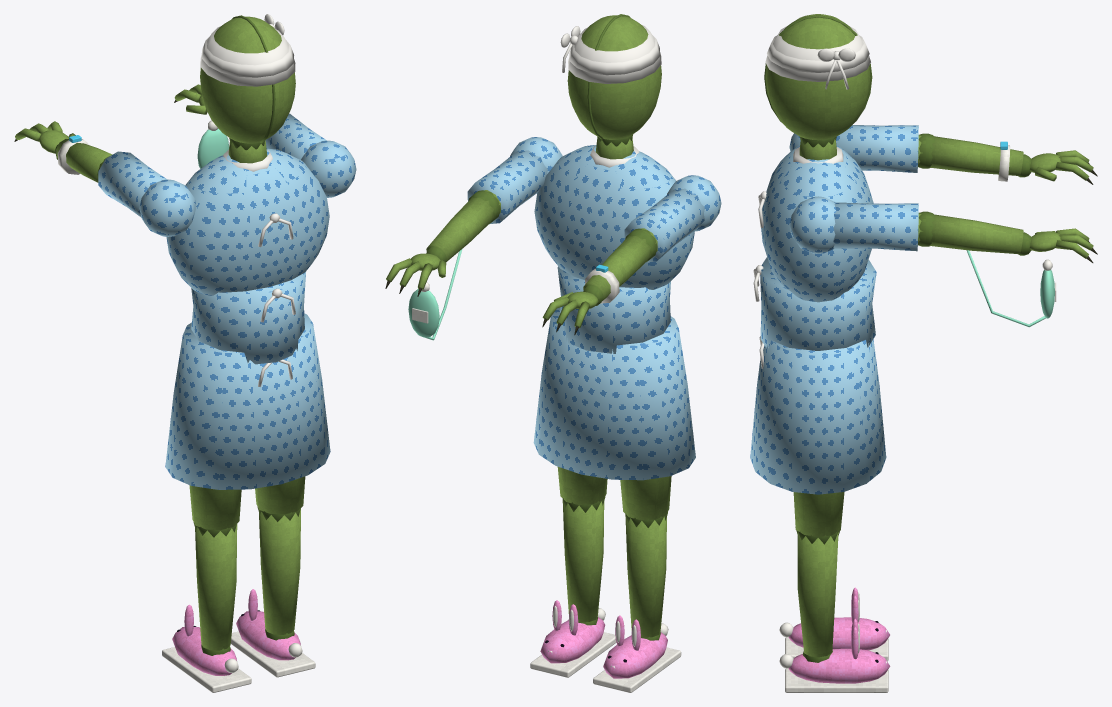
Rendered from z_patient.glb.
3 views of the same model, side by side, from view 1: azimuth 30°, elevation 25°; view 2: azimuth 150°, elevation 25°; view 3: azimuth 270°, elevation 25° (orthographic). The views are drawn at different scales.
Parts seen in each view (by area): view 1: part_body, part_head, part_kneeL, part_kneeR, part_armL, part_arm, part_legL, part_legR; view 2: part_body, part_head, part_arm, part_kneeL, part_kneeR, part_armL, part_legL, part_legR; view 3: part_body, part_head, part_arm, part_kneeR, part_armL, part_kneeL, part_legR.
Boxes of the visible parts, bbox=[...] form: part_body: bbox=[139, 140, 356, 489]; part_head: bbox=[200, 14, 295, 150]; part_kneeL: bbox=[162, 522, 251, 692]; part_kneeR: bbox=[230, 506, 315, 677]; part_armL: bbox=[14, 121, 167, 217]; part_arm: bbox=[174, 84, 326, 168]; part_legL: bbox=[189, 485, 241, 529]; part_legR: bbox=[255, 476, 305, 514]; part_body: bbox=[510, 136, 721, 480]; part_head: bbox=[560, 14, 661, 146]; part_arm: bbox=[385, 150, 547, 340]; part_kneeL: bbox=[593, 511, 681, 692]; part_kneeR: bbox=[530, 496, 616, 677]; part_armL: bbox=[542, 188, 704, 335]; part_legL: bbox=[620, 476, 671, 520]; part_legR: bbox=[557, 467, 607, 504]; part_body: bbox=[750, 133, 886, 494]; part_head: bbox=[764, 14, 872, 147]; part_arm: bbox=[833, 202, 1097, 327]; part_kneeR: bbox=[779, 527, 890, 692]; part_armL: bbox=[836, 125, 1097, 184]; part_kneeL: bbox=[779, 536, 889, 661]; part_legR: bbox=[793, 492, 844, 536].
Size of the model in its own units: 0.656 by 1.95 by 0.9397.
Materials: 11 (5 with a texture image).
